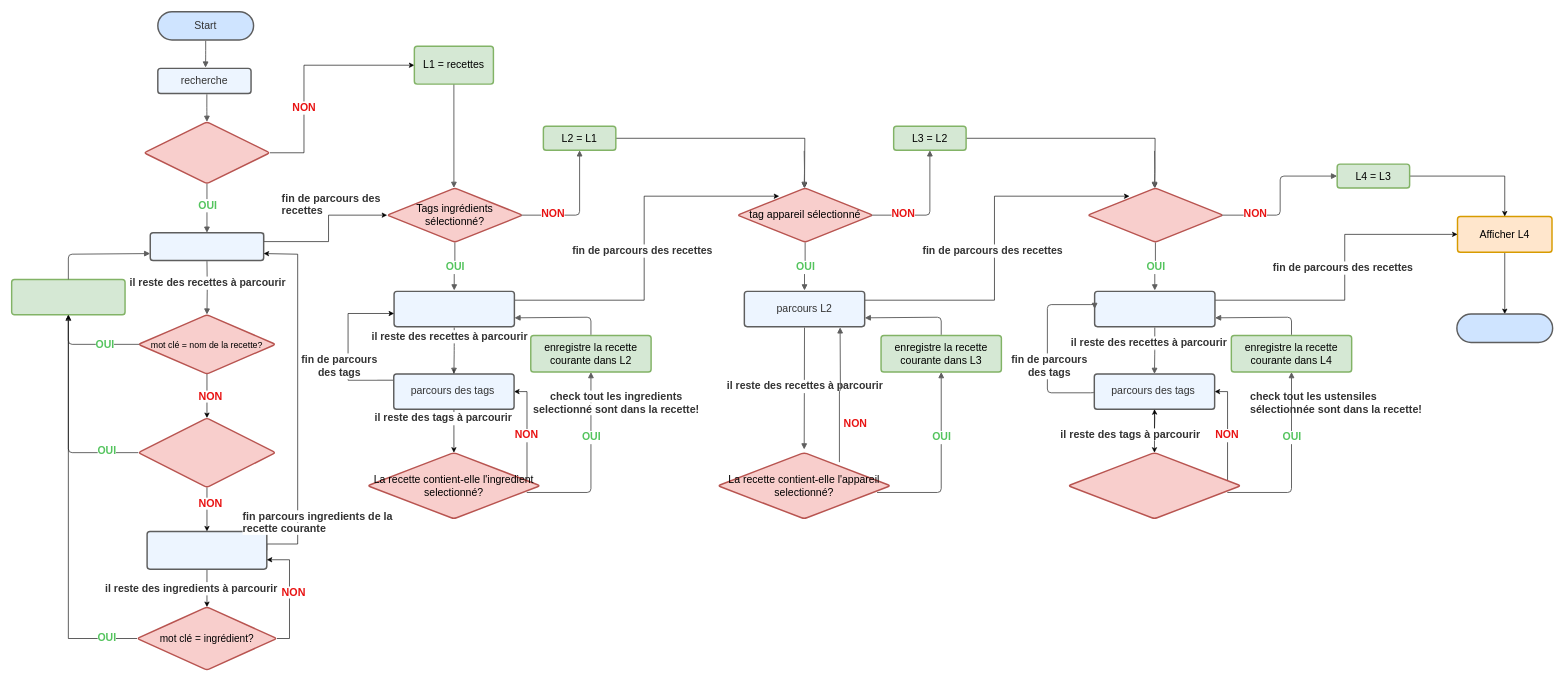
Image size: 1564x682. Some labels were removed from this diagram. Here are the shapes that lost their labels. From the top down, the box of each, then its label:
(143, 121, 270, 184): 3 caractères min. ?
(1087, 187, 1224, 243): tags ustensiles sélectionné
(149, 232, 264, 261): Parcours Liste recettes
(11, 278, 125, 315): enregistre la recette courante dans L1
(393, 290, 515, 327): parcours L1
(1094, 290, 1215, 327): parcours L3
(1456, 313, 1553, 343): End
(137, 417, 276, 488): mot clé = description?
(1067, 452, 1241, 519): la recette contient-elle l'ustensil selectionné?
(146, 530, 267, 570): Parcours ingredients de recette courante
